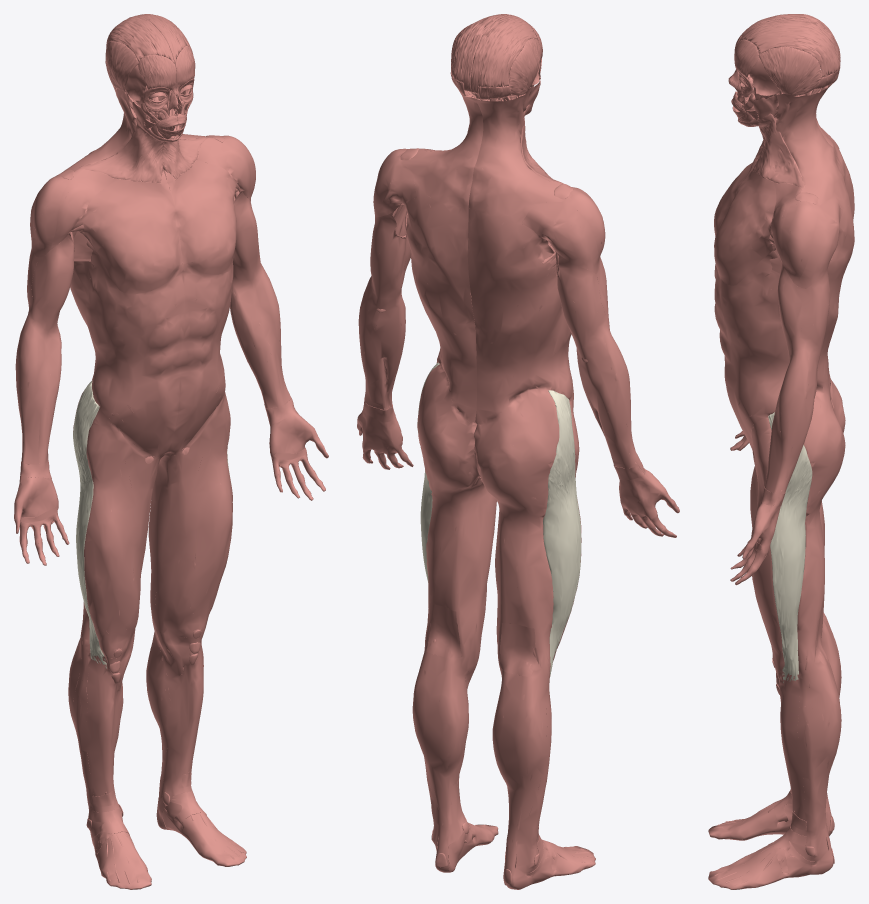
File: muscular-web.glb
3 views of the same model, side by side, from view 1: azimuth 30°, elevation 25°; view 2: azimuth 150°, elevation 25°; view 3: azimuth 270°, elevation 25° (orthographic). The views are drawn at different scales.
Visible parts, largest first — view 1: Investing abdominal fascia.r.001, Fascia lata.l.001, Fascia lata.r.001, Crural fascia.l.001, Crural fascia.r.001, Pectoral fascia.r.001, Investing abdominal fascia.l.001, Pectoral fascia.l.001, Antebrachial fascia.r.001, Antebrachial fascia.l.001, Deltoid fascia.r.001, Brachial fascia.r.001 (+13 smaller); view 2: Investing abdominal fascia.r.001, Fascia lata.r.001, Fascia lata.l.001, Crural fascia.r.001, Investing abdominal fascia.l.001, Crural fascia.l.001, Superficial investing cervical fascia.r.001, Iliotibial tract.r.001, Antebrachial fascia.r.001, Antebrachial fascia.l.001, Deltoid fascia.r.001, Superficial investing cervical fascia.l.001 (+11 smaller); view 3: Investing abdominal fascia.l.001, Crural fascia.l.001, Fascia lata.l.001, Iliotibial tract.l.001, Deltoid fascia.l.001, Pectoral fascia.l.001, Superficial investing cervical fascia.l.001, Antebrachial fascia.l.001, Brachial fascia.l.001, Epicranial aponeurosis.l.001, Crural fascia.r.001, Temporoparietalis muscle.l.001 (+13 smaller).
Part boxes in pixels (x1,y1,x2,y2): Investing abdominal fascia.r.001: (70, 239, 184, 457); Fascia lata.l.001: (148, 392, 232, 638); Fascia lata.r.001: (73, 391, 165, 658); Crural fascia.l.001: (146, 622, 246, 866); Crural fascia.r.001: (68, 638, 151, 889); Pectoral fascia.r.001: (78, 178, 182, 294); Investing abdominal fascia.l.001: (167, 263, 233, 452); Pectoral fascia.l.001: (167, 158, 237, 274); Antebrachial fascia.r.001: (15, 315, 61, 464); Antebrachial fascia.l.001: (230, 263, 291, 408); Deltoid fascia.r.001: (30, 169, 113, 257); Brachial fascia.r.001: (27, 232, 74, 329); Investing abdominal fascia.r.001: (467, 206, 573, 426); Fascia lata.r.001: (474, 389, 581, 677); Fascia lata.l.001: (417, 364, 496, 657); Crural fascia.r.001: (492, 666, 595, 889); Investing abdominal fascia.l.001: (401, 177, 476, 424); Crural fascia.l.001: (412, 647, 498, 872); Superficial investing cervical fascia.r.001: (468, 86, 566, 216); Iliotibial tract.r.001: (543, 390, 581, 676); Antebrachial fascia.r.001: (575, 330, 641, 468); Antebrachial fascia.l.001: (358, 276, 405, 409); Deltoid fascia.r.001: (521, 173, 605, 274); Superficial investing cervical fascia.l.001: (399, 90, 483, 208); Investing abdominal fascia.l.001: (714, 195, 854, 448); Crural fascia.l.001: (708, 657, 841, 889); Fascia lata.l.001: (751, 389, 845, 674); Iliotibial tract.l.001: (768, 412, 812, 682); Deltoid fascia.l.001: (771, 183, 843, 288); Pectoral fascia.l.001: (714, 171, 776, 285); Superficial investing cervical fascia.l.001: (752, 82, 848, 205); Antebrachial fascia.l.001: (764, 348, 820, 493); Brachial fascia.l.001: (777, 261, 829, 357); Epicranial aponeurosis.l.001: (738, 18, 840, 77); Crural fascia.r.001: (708, 618, 841, 840); Temporoparietalis muscle.l.001: (759, 46, 821, 96).
Bounding box in the file's own units: 0.6708 × 1.7 × 0.2686.
